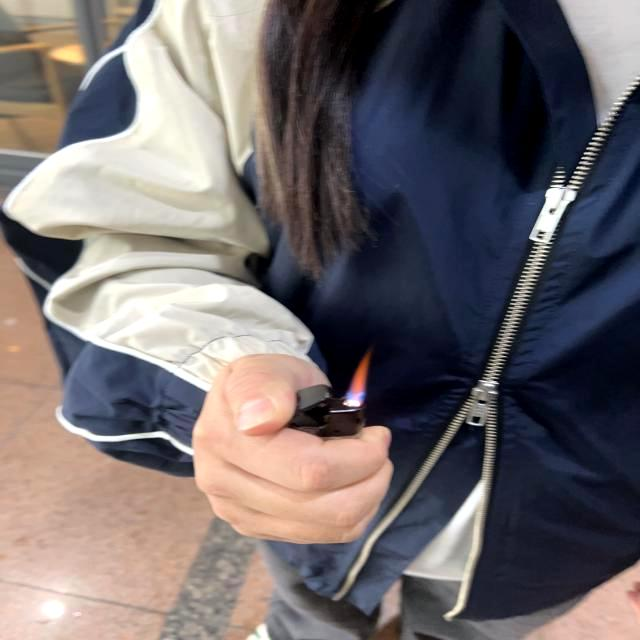fire: (344, 352, 372, 400)
